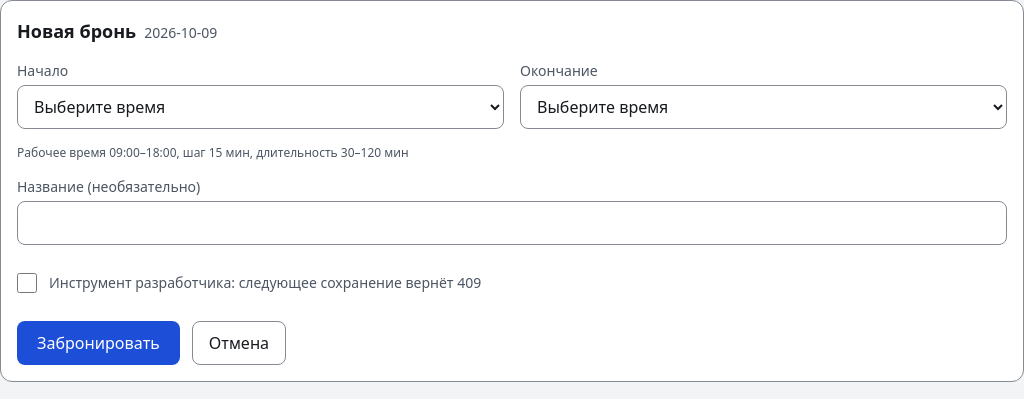
it: BookingForm create › shows sending state: disabled button, aria-busy, «Отправка…»
Select "10:00" in the dropdown labelled "Начало" at (260, 107), box [17,85,504,129]
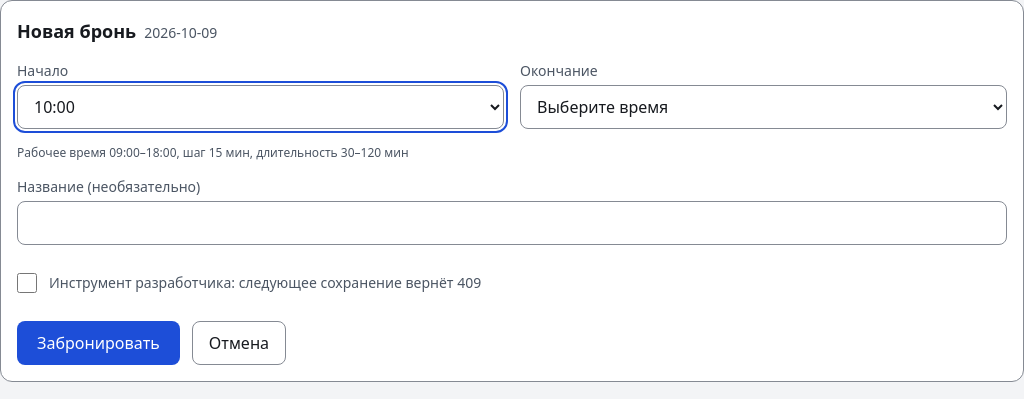
Select "11:00" in the dropdown labelled "Окончание" at (764, 107), box [520,85,1007,129]
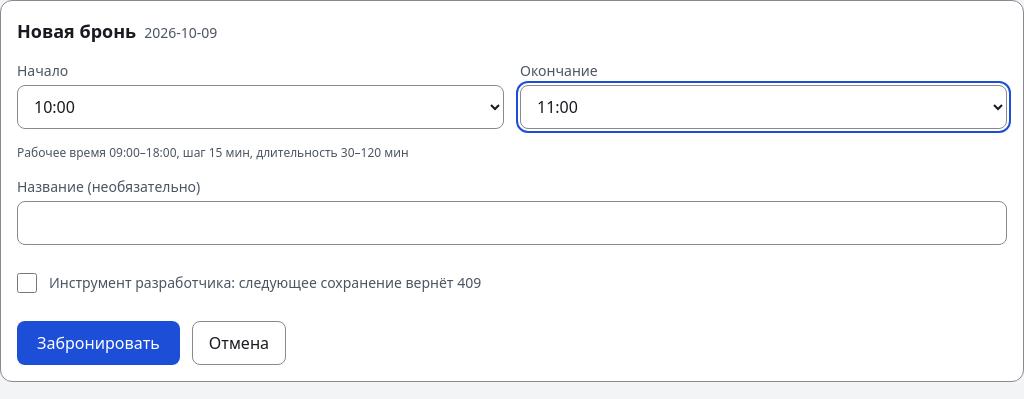
Click the button "Забронировать" at (98, 343), box [17,321,180,365]
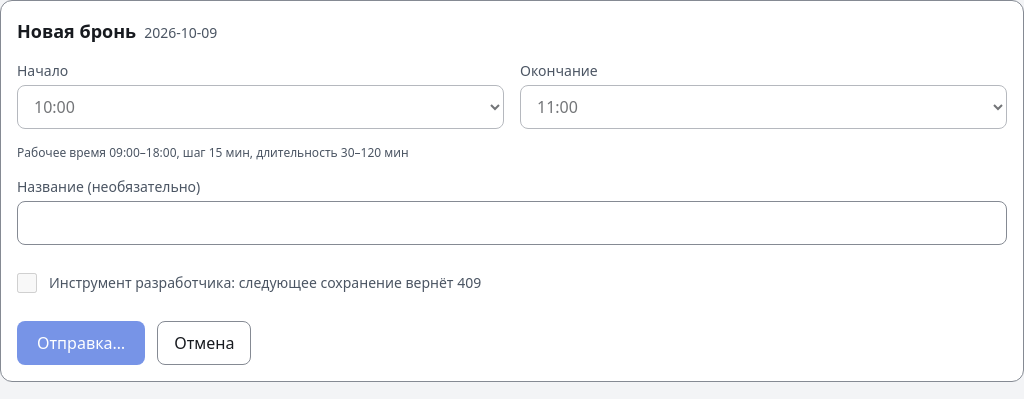
Expected: the button "Отправка…" is disabled, [17,321,145,365]
Expected: the dropdown labelled "Начало" is disabled, [17,85,504,129]
